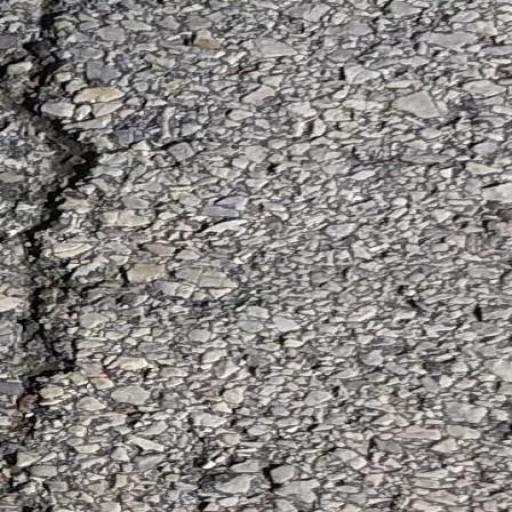spalling: (6, 0, 106, 502)
